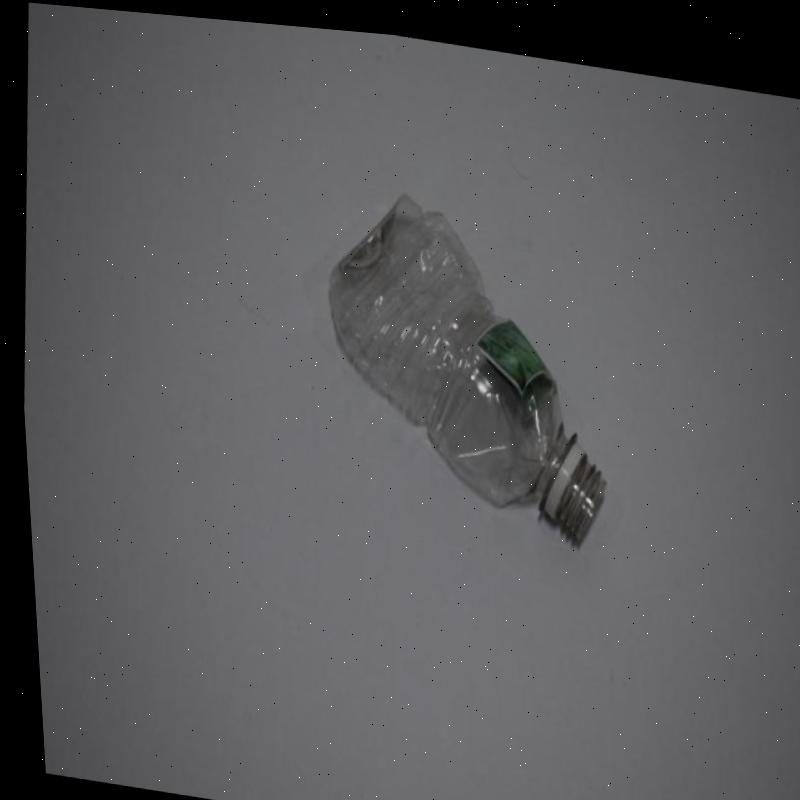botella: (303, 170, 622, 540)
